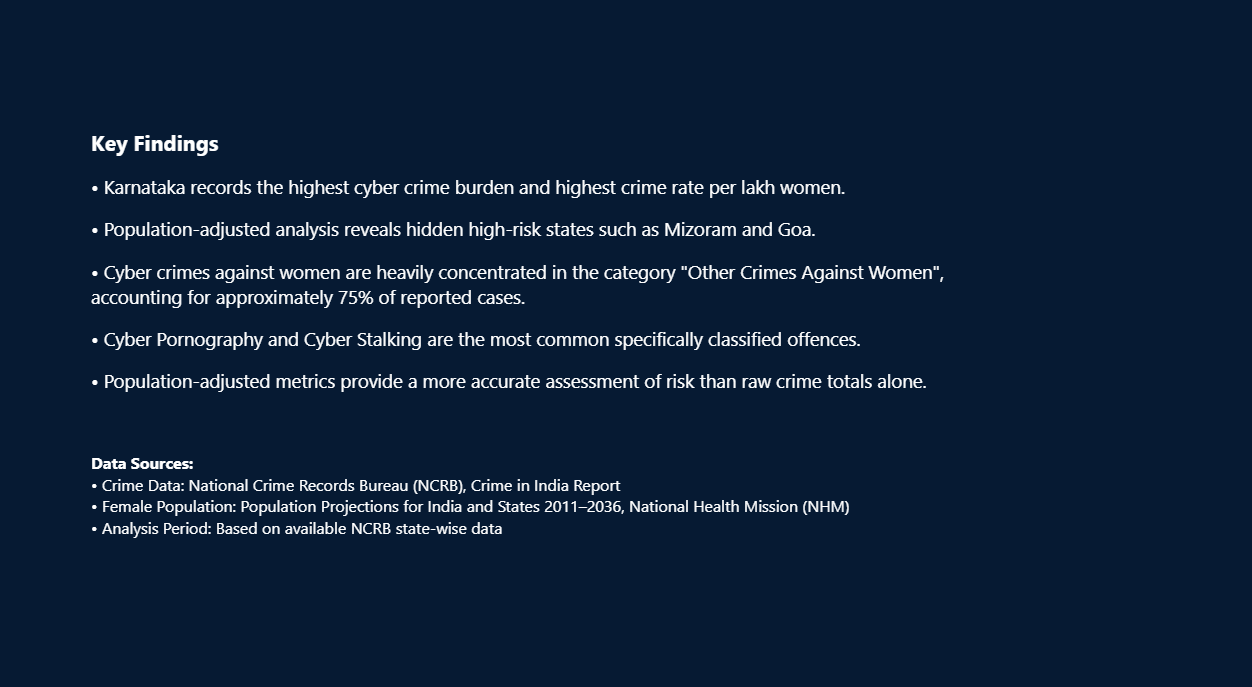

This screenshot's page, from the dashboard's own definition file:
{"tool":"powerbi","page":{"name":"Page 4","canvas":[1280,720],"ordinal":3},"visuals":[{"type":"textbox","box":[95.3,129.1,954.3,292],"z":0},{"type":"textbox","box":[95.3,452.4,772.1,103.8],"z":1}]}

Visuals, with their boxes in screenshot pixels (x1, y1, x2, y2), scaled from the page's 1280x720 canvas onto the 1252x687 screenshot:
textbox: left=93, top=123, right=1027, bottom=402
textbox: left=93, top=432, right=848, bottom=531
